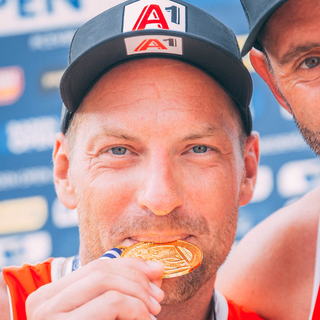eye: (173, 140, 224, 161), (95, 143, 142, 161), (288, 52, 320, 78)
